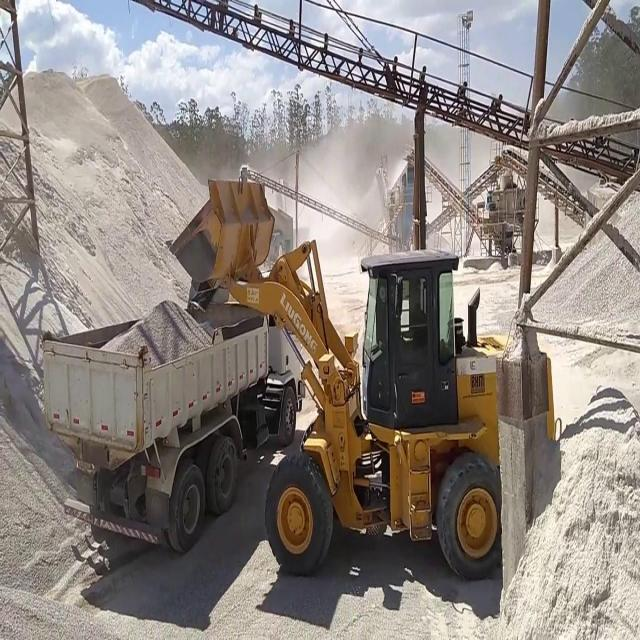Dump Truck: (41, 310, 270, 556)
Loader: (164, 175, 562, 583)
